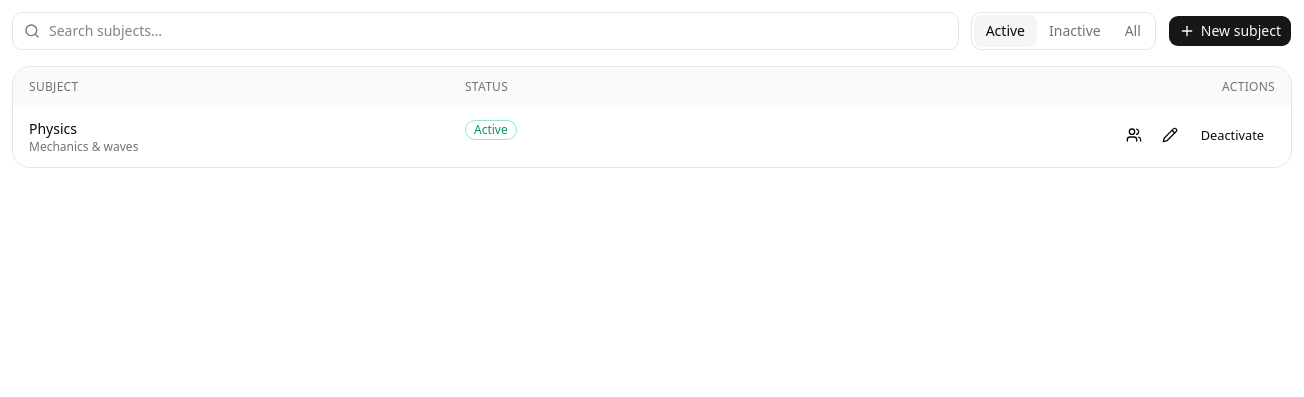
Test: SubjectManager — create › maps a 409 to inline error text and keeps the form open
Click the button "New subject".
click(1230, 31)  # box [1168, 15, 1292, 47]
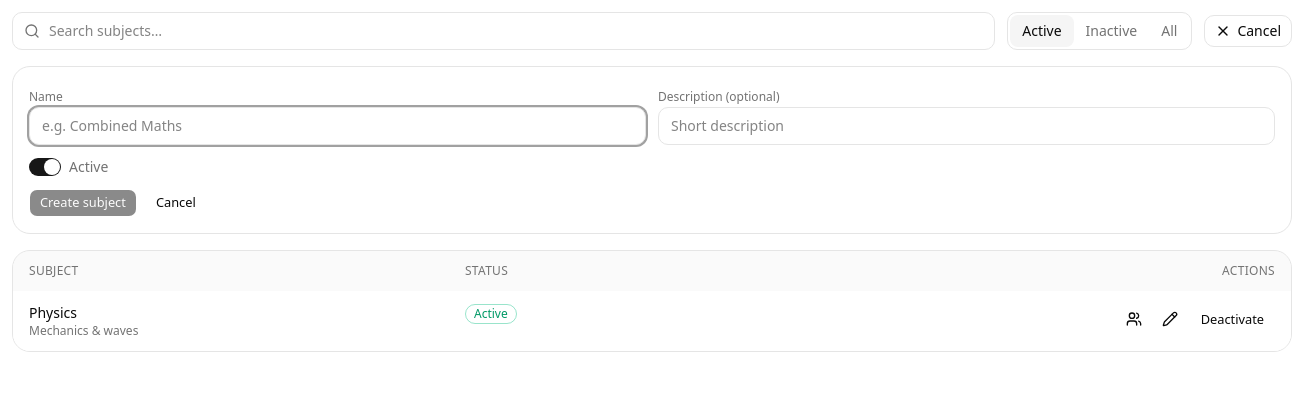
Type "Physics" into the field labelled "Name".
click(338, 126); type("Physics")  # box [29, 107, 646, 145]
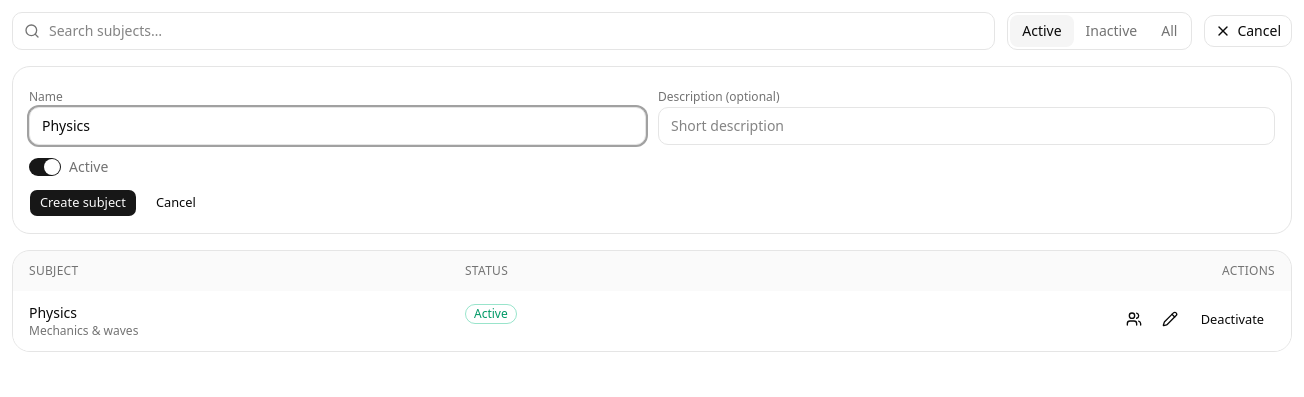
Click the button "Create subject".
click(83, 203)  # box [29, 189, 137, 217]
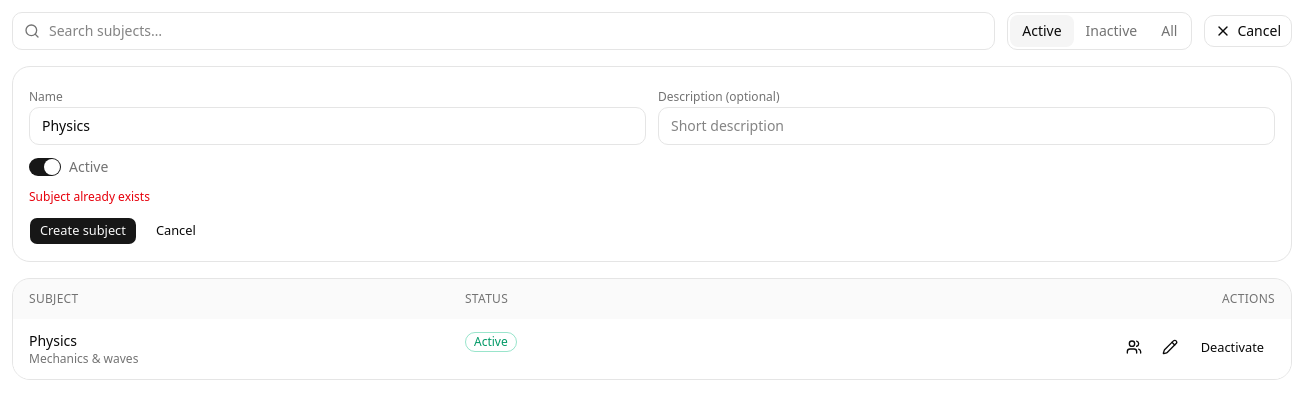
Now the button "Create subject" is shown, box [29, 217, 137, 245]
Now the text "Subject already exists" is shown, box [29, 188, 150, 205]
